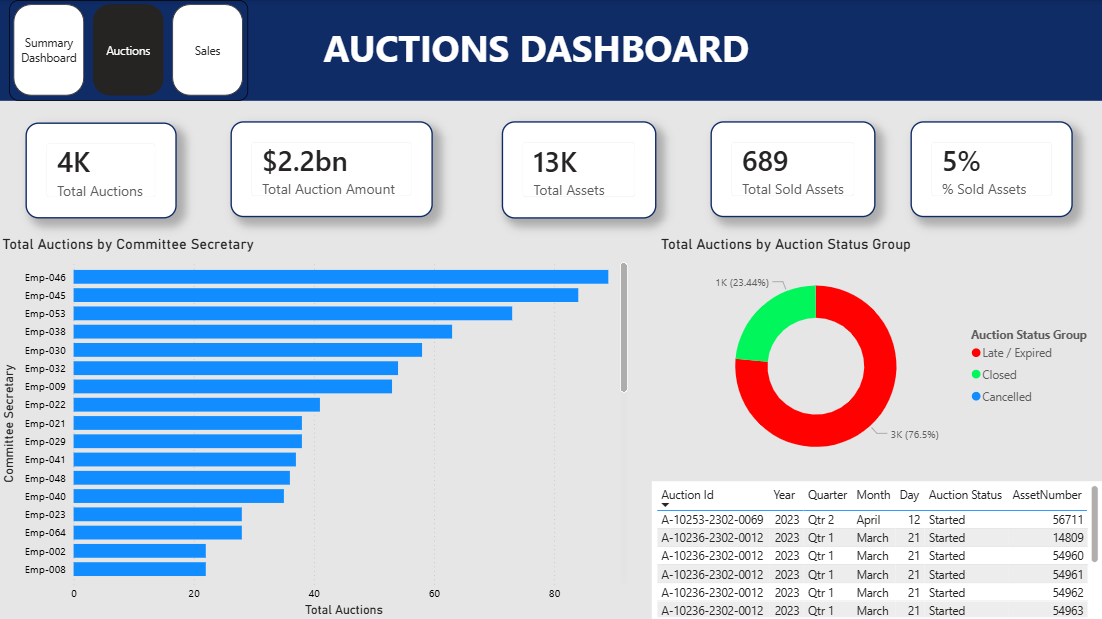

What the dashboard file says about the page in this screenshot:
{"tool":"powerbi","page":{"name":"Auctions","canvas":[1280,720],"ordinal":1},"visuals":[{"type":"textbox","box":[0,0,1280.3,116.6],"z":0},{"type":"textbox","box":[291.1,20.3,664.8,73.9],"z":1000},{"type":"cardVisual","fields":{"Data":["Key Measures.Total Auctions"]},"box":[31.9,141.9,175.2,111.5],"z":2000},{"type":"cardVisual","fields":{"Data":["Key Measures.Total Auction Amount"]},"box":[269.4,140.5,234.6,111.5],"z":3000},{"type":"donutChart","fields":{"Category":["Project and Auction.Auction Status Group"],"Y":["Key Measures.Total Auctions"]},"box":[763.3,272.3,517,285.3],"z":4000},{"type":"clusteredBarChart","fields":{"Category":["Project and Auction.Committee Secretary","Assets.Project Manager Name","Project and Auction.Sales Agent Number"],"Y":["Key Measures.Total Auctions"]},"box":[0,272.3,734.3,447.5],"z":5000},{"type":"tableEx","fields":{"Values":["Project and Auction.Auction Id","Project and Auction.auction end date.Variation.Date Hierarchy.Year","Project and Auction.auction end date.Variation.Date Hierarchy.Quarter","Project and Auction.auction end date.Variation.Date Hierarchy.Month","Project and Auction.auction end date.Variation.Date Hierarchy.Day","Project and Auction.Auction Status","Assets.AssetNumber"]},"box":[757.5,557.6,522.8,162.2],"z":6000},{"type":"cardVisual","fields":{"Data":["Key Measures.Total Assets"]},"box":[583.7,140.5,179.6,113],"z":7000},{"type":"cardVisual","fields":{"Data":["Key Measures.Total Sold Assets"]},"box":[825.5,140.5,191.2,111.5],"z":8000},{"type":"cardVisual","fields":{"Data":["Key Measures.% Sold Assets"]},"box":[1057.3,140.5,188.3,111.5],"z":9000},{"type":"pageNavigator","box":[12.3,0,277.2,116.6],"z":10000}]}

Visuals, with their boxes in screenshot pixels (x1, y1, x2, y2), scaled from the page's 1280x720 canvas onto the 1102x619 screenshot:
textbox: (x1=0, y1=0, x2=1101, y2=100)
textbox: (x1=251, y1=17, x2=823, y2=81)
cardVisual - Key Measures.Total Auctions: (x1=27, y1=122, x2=178, y2=218)
cardVisual - Key Measures.Total Auction Amount: (x1=232, y1=121, x2=434, y2=217)
donutChart - Project and Auction.Auction Status Group x Key Measures.Total Auctions: (x1=657, y1=234, x2=1101, y2=479)
clusteredBarChart - Project and Auction.Committee Secretary x Assets.Project Manager Name: (x1=0, y1=234, x2=632, y2=618)
tableEx - Project and Auction.Auction Id x Project and Auction.auction end date.Variation.Date Hierarchy.Year: (x1=652, y1=479, x2=1101, y2=618)
cardVisual - Key Measures.Total Assets: (x1=503, y1=121, x2=657, y2=218)
cardVisual - Key Measures.Total Sold Assets: (x1=711, y1=121, x2=875, y2=217)
cardVisual - Key Measures.% Sold Assets: (x1=910, y1=121, x2=1072, y2=217)
pageNavigator: (x1=11, y1=0, x2=249, y2=100)
